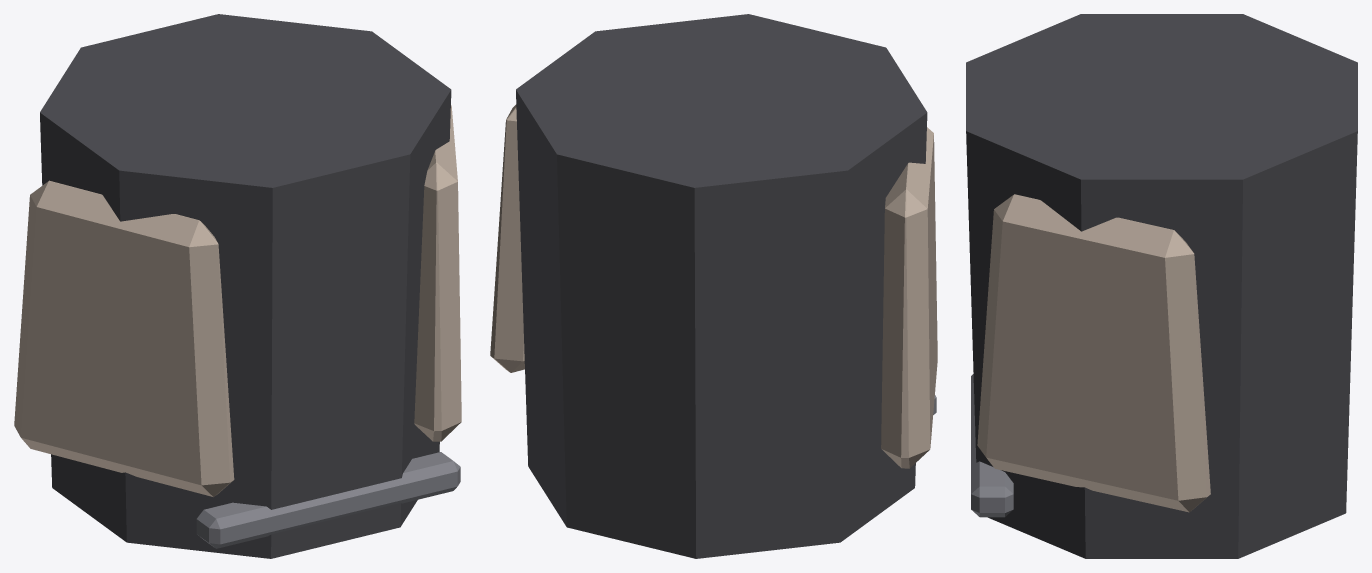
The model's file is thigh_heavy.glb.
The picture shows the model from 3 angles, left to right: view 1: azimuth 30°, elevation 25°; view 2: azimuth 150°, elevation 25°; view 3: azimuth 270°, elevation 25°; orthographic projection. The views are drawn at different scales.
Parts seen in each view (by area): view 1: thigh_heavy; view 2: thigh_heavy; view 3: thigh_heavy.
Boxes of the visible parts, x1,y1,x2,y2 form: thigh_heavy: [14, 14, 461, 558]; thigh_heavy: [490, 14, 937, 558]; thigh_heavy: [966, 14, 1357, 558].
Bounding box in the file's own units: 1.21 × 1 × 0.9239.
